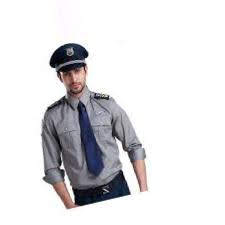uniform: (32, 42, 154, 206)
